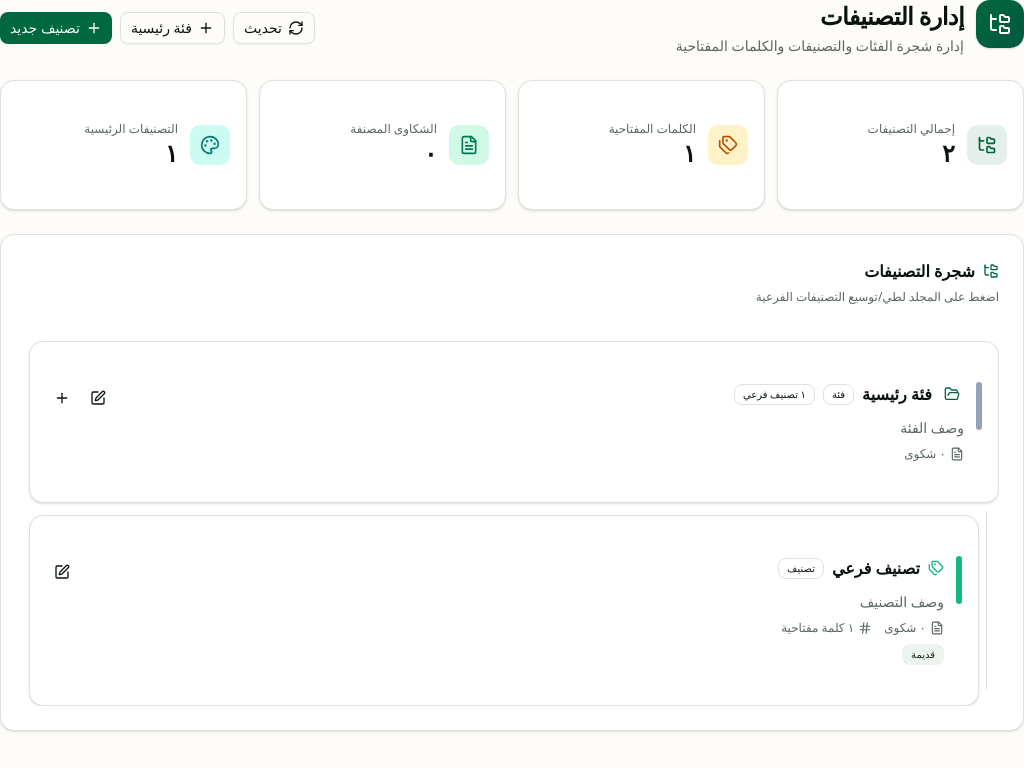
Test: ClassificationsManager › opens category editor without keywords or color
expect the heading "تصنيف فرعي" is shown: met, box left=832, top=556, right=920, bottom=580
expect the heading "فئة رئيسية" is shown: met, box left=862, top=382, right=932, bottom=406
Click the button with test id "edit-node-cat_1" at coordinates (98, 398), box left=82, top=382, right=114, bottom=414
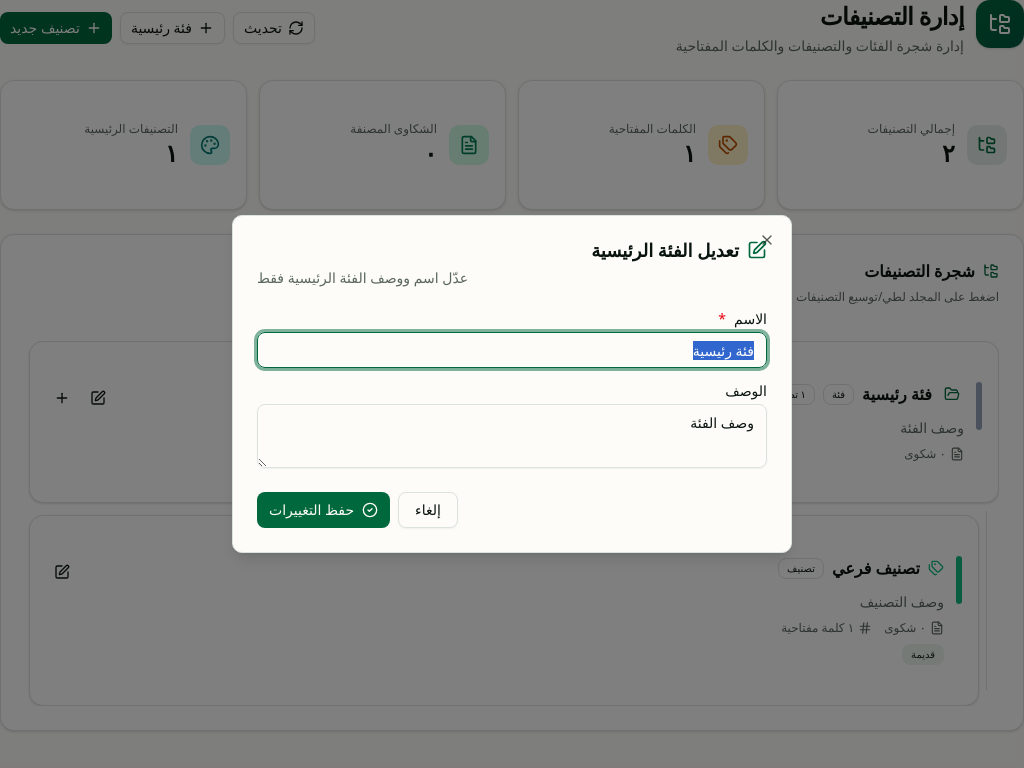
expect the heading "تعديل الفئة الرئيسية" is shown: met, box left=591, top=238, right=767, bottom=262
